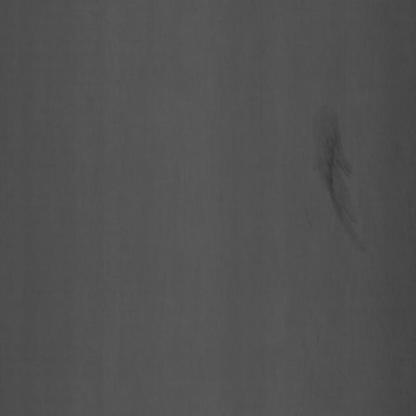water_spot: (306, 101, 367, 268)
